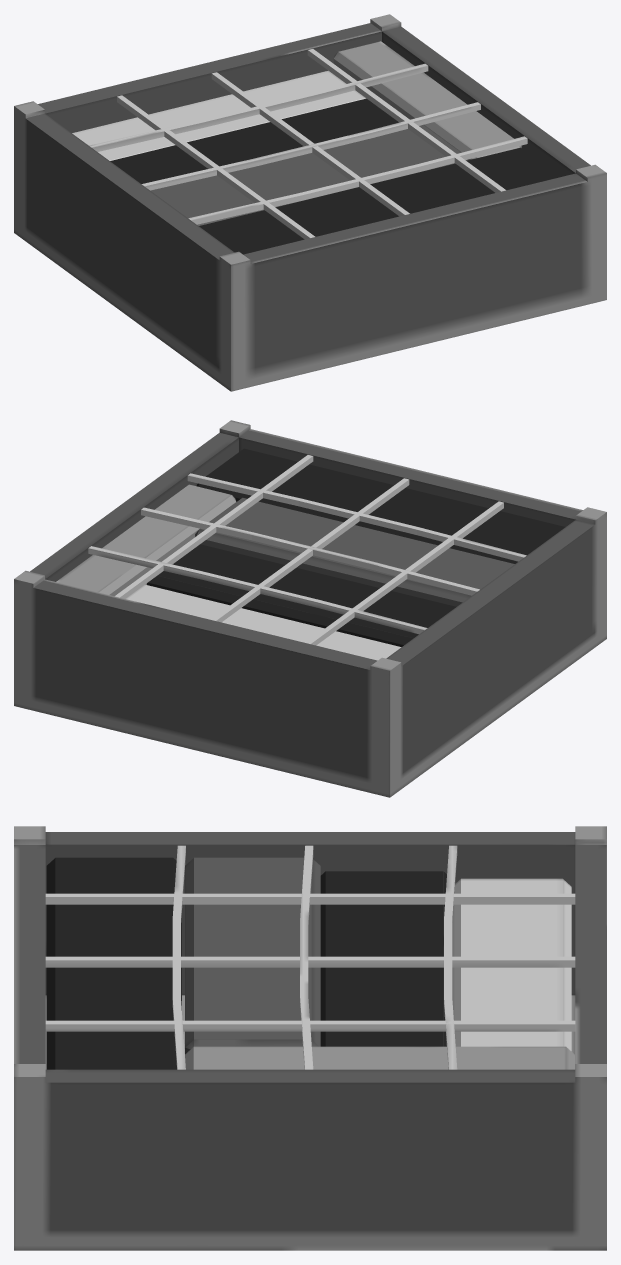
The model's file is Storage_B.fbx.
3 renders of one model, top to bottom at view 1: azimuth 30°, elevation 25°; view 2: azimuth 150°, elevation 25°; view 3: azimuth 270°, elevation 25°, orthographic. The views are drawn at different scales.
Parts seen in each view (by area): view 1: Storage_B; view 2: Storage_B; view 3: Storage_B.
Part boxes in pixels (x1=…): Storage_B: x1=14, y1=14, x2=606, y2=391; Storage_B: x1=14, y1=420, x2=606, y2=797; Storage_B: x1=14, y1=826, x2=606, y2=1250.
Size of the model in its own units: 200 by 64.53 by 200.
